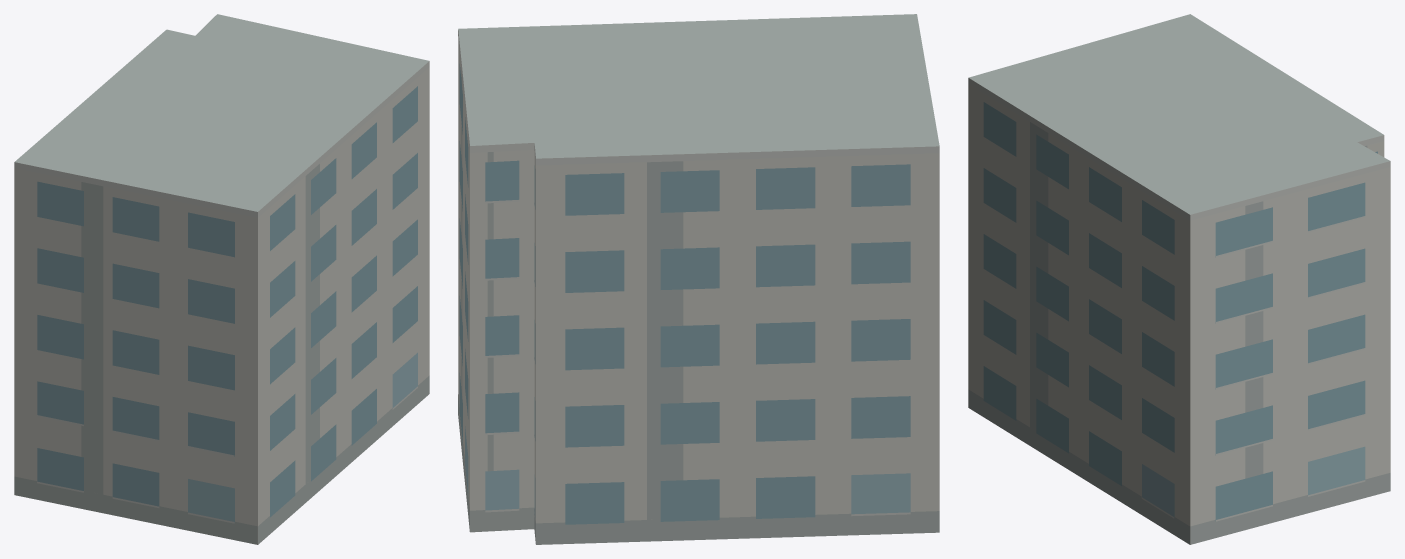
File: survey-upis-32846005.glb
The picture shows the model from 3 angles, left to right: view 1: azimuth 30°, elevation 25°; view 2: azimuth 150°, elevation 25°; view 3: azimuth 270°, elevation 25°; orthographic projection. The views are drawn at different scales.
Parts seen in each view (by area): view 1: survey-upis-32846005.tmp; view 2: survey-upis-32846005.tmp; view 3: survey-upis-32846005.tmp.
Part boxes in pixels (left/top/right/bottom): survey-upis-32846005.tmp: left=14, top=14, right=429, bottom=544; survey-upis-32846005.tmp: left=458, top=14, right=939, bottom=544; survey-upis-32846005.tmp: left=968, top=14, right=1390, bottom=544.
Bounding box in the file's own units: 17.56 × 13.45 × 15.6.
